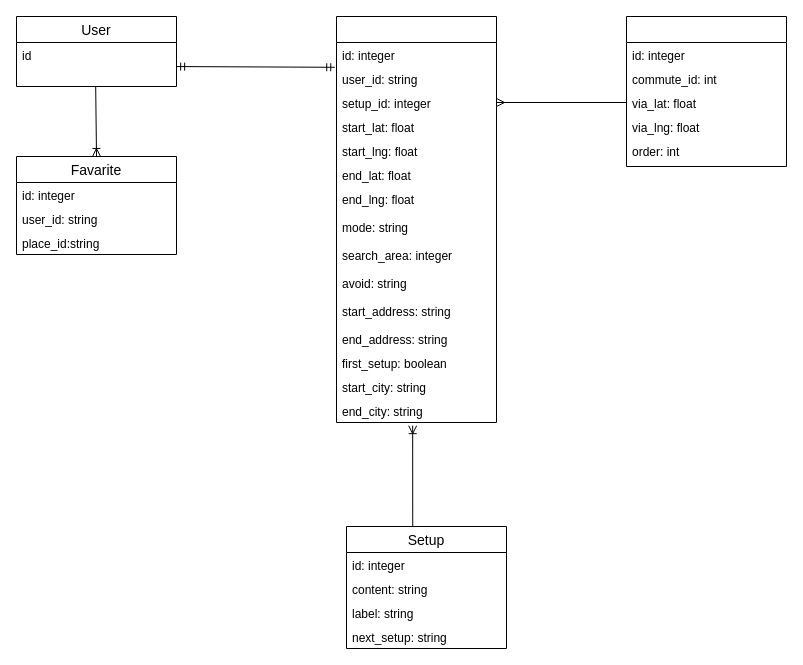
The diagram is 803 pixels wide and 665 high, and some of its shapes have lost their labels. Here are the shapes that lost their labels. From the top down, the box of each, then its label:
(626, 16, 786, 166): ViaPlace
(336, 16, 496, 422): Commute
